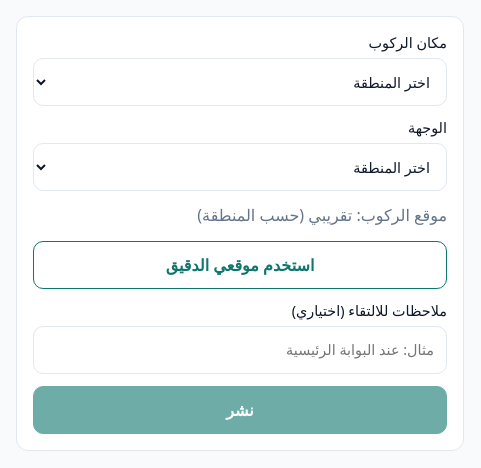
Scenario: RequestForm › disables submit until both areas are chosen
Expected: the submit button is disabled, top-left (33, 386), bottom-right (447, 434)
Select "المحطة" in the dropdown labelled "مكان الركوب" at (240, 82), box top-left (33, 58), bottom-right (447, 106)
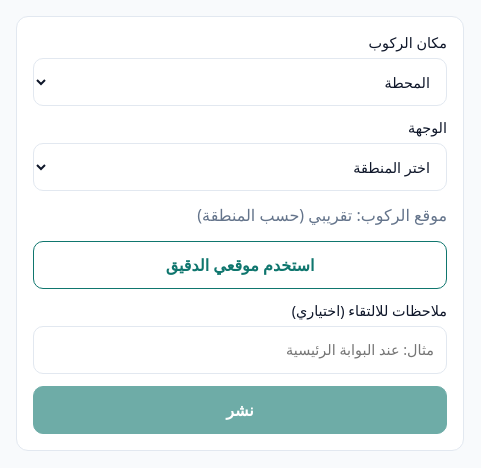
Expected: the submit button is disabled, top-left (33, 386), bottom-right (447, 434)
Select "الأربعين" in the dropdown labelled "الوجهة" at (240, 167), box top-left (33, 143), bottom-right (447, 191)
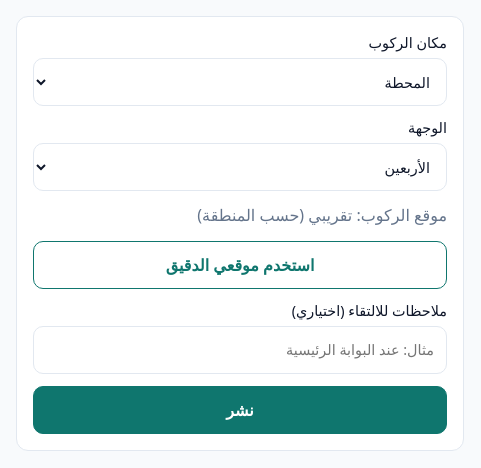
Now the submit button is enabled, box top-left (33, 386), bottom-right (447, 434)
